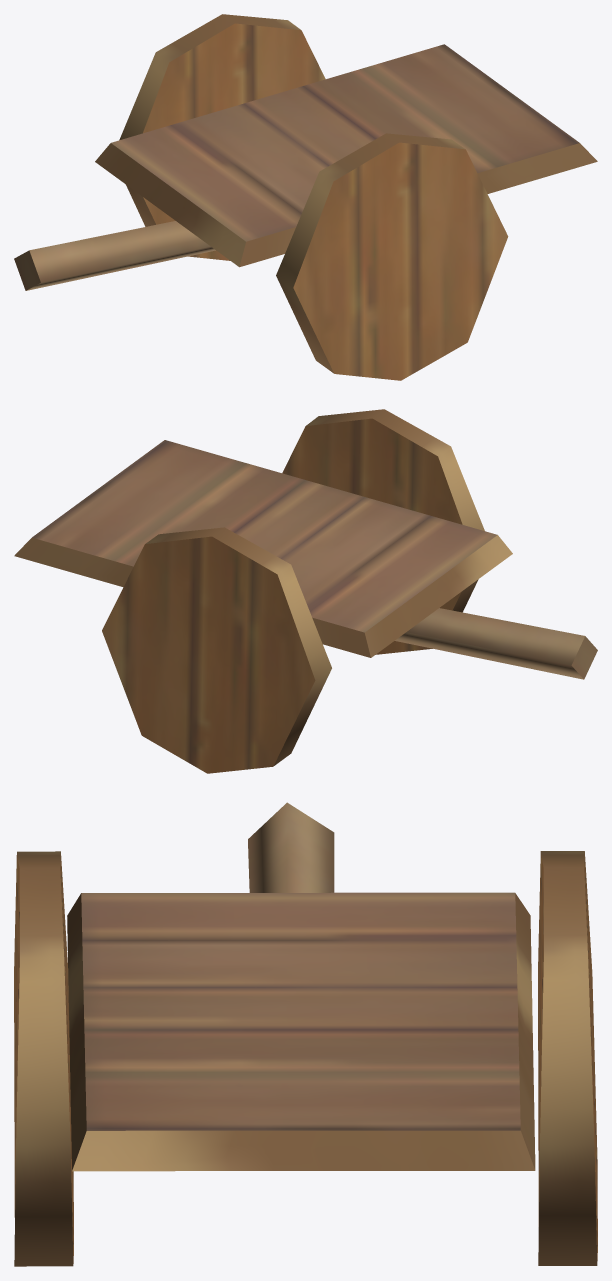
The model's file is field_Buildings_002y.fbx.
3 views of the same model, one above another, from view 1: azimuth 30°, elevation 25°; view 2: azimuth 150°, elevation 25°; view 3: azimuth 270°, elevation 25° (orthographic). The views are drawn at different scales.
Parts seen in each view (by area): view 1: field_Buildings_002y; view 2: field_Buildings_002y; view 3: field_Buildings_002y.
Part boxes in pixels (x1,y1,x2,y2): field_Buildings_002y: (14,14,597,380); field_Buildings_002y: (14,409,597,773); field_Buildings_002y: (14,802,597,1266).
Size of the model in its own units: 68.78 by 31.01 by 43.06.
